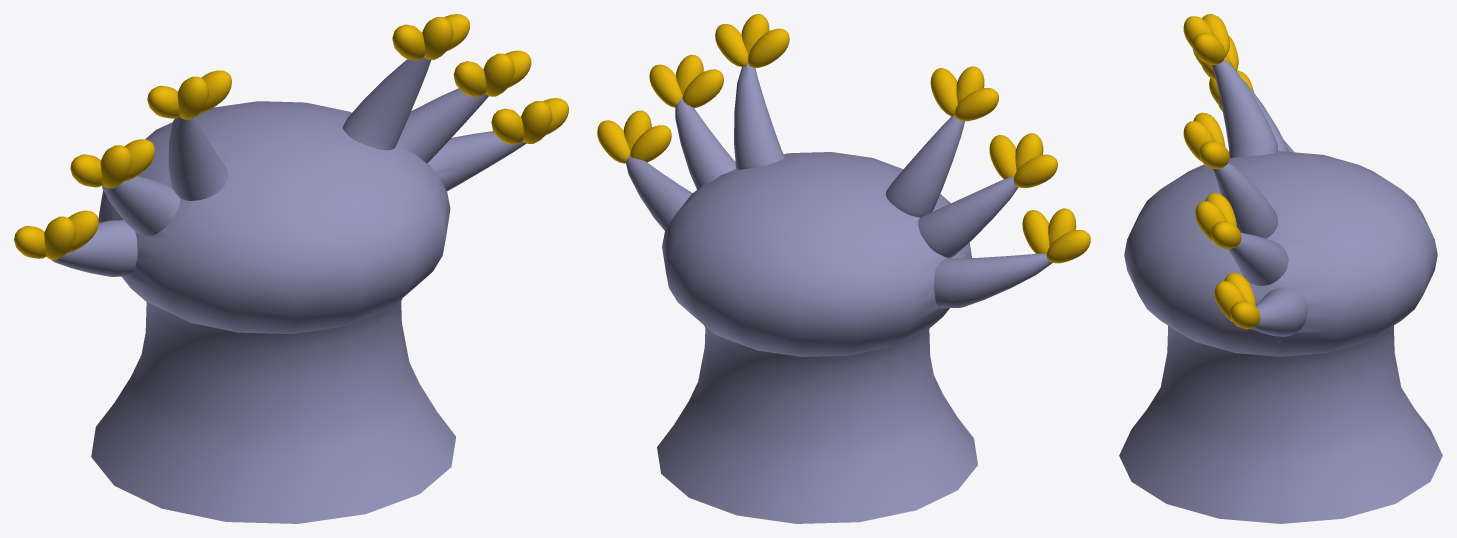
Rendered from StatueAxolotl.fbx.
3 views of the same model, side by side, from view 1: azimuth 30°, elevation 25°; view 2: azimuth 150°, elevation 25°; view 3: azimuth 270°, elevation 25° (orthographic). The views are drawn at different scales.
Visible parts, largest first — view 1: AxolotlBool; view 2: AxolotlBool; view 3: AxolotlBool.
Part boxes in pixels (box(x1,y1,x2,y2)): AxolotlBool: box(14, 14, 568, 523); AxolotlBool: box(597, 14, 1090, 523); AxolotlBool: box(1119, 14, 1442, 523).
Bounding box in the file's own units: 335 × 252 × 193.
